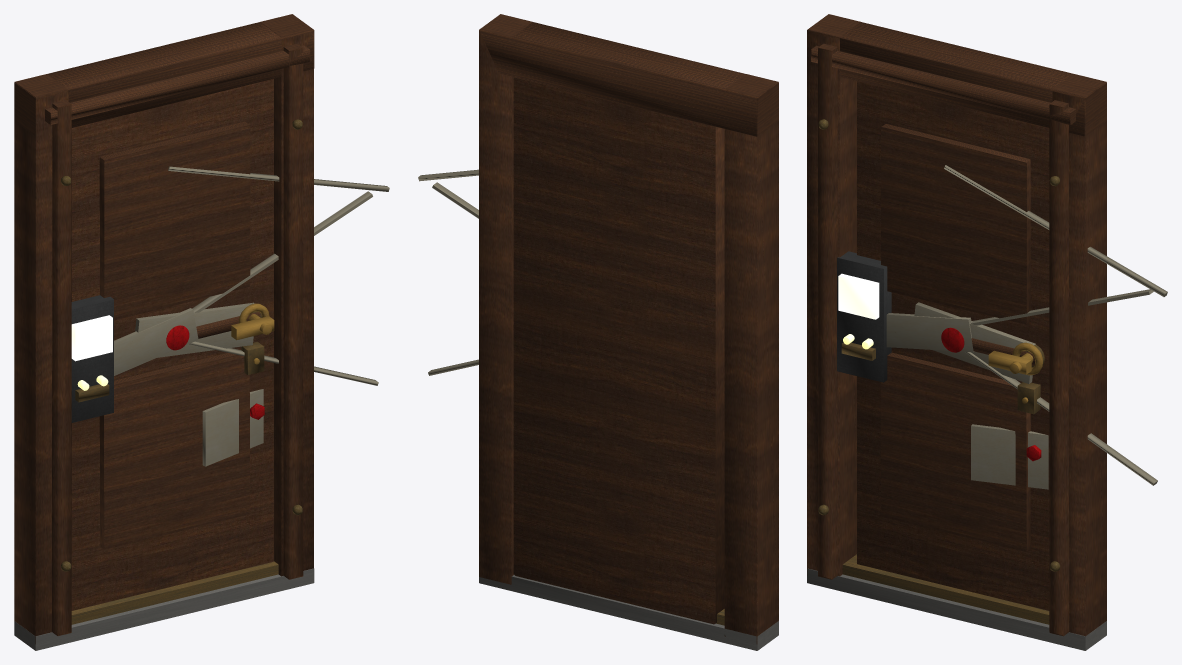
The model's file is hp_room_l09_p06.glb.
3 renders of one model, left to right at view 1: azimuth 30°, elevation 25°; view 2: azimuth 150°, elevation 25°; view 3: azimuth 330°, elevation 25°, orthographic.
Parts seen in each view (by area): view 1: room_l09_p06; view 2: room_l09_p06; view 3: room_l09_p06.
Part boxes in pixels (x1,y1,x2,y2): room_l09_p06: [14, 14, 389, 650]; room_l09_p06: [418, 14, 778, 650]; room_l09_p06: [807, 14, 1167, 650].
Size of the model in its own units: 1.51 by 2.24 by 0.2496.
12 materials, 10 textured.
